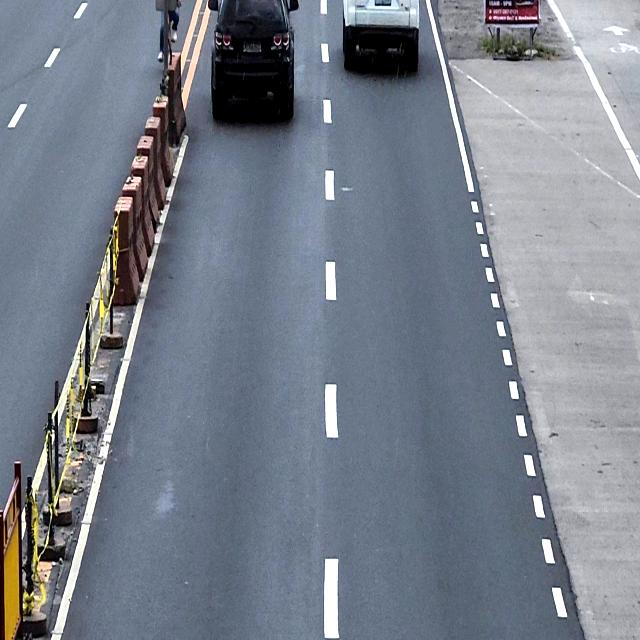Car: (207, 0, 299, 120), (342, 0, 420, 72)
License-Plate: (242, 41, 262, 54), (373, 0, 392, 7)
